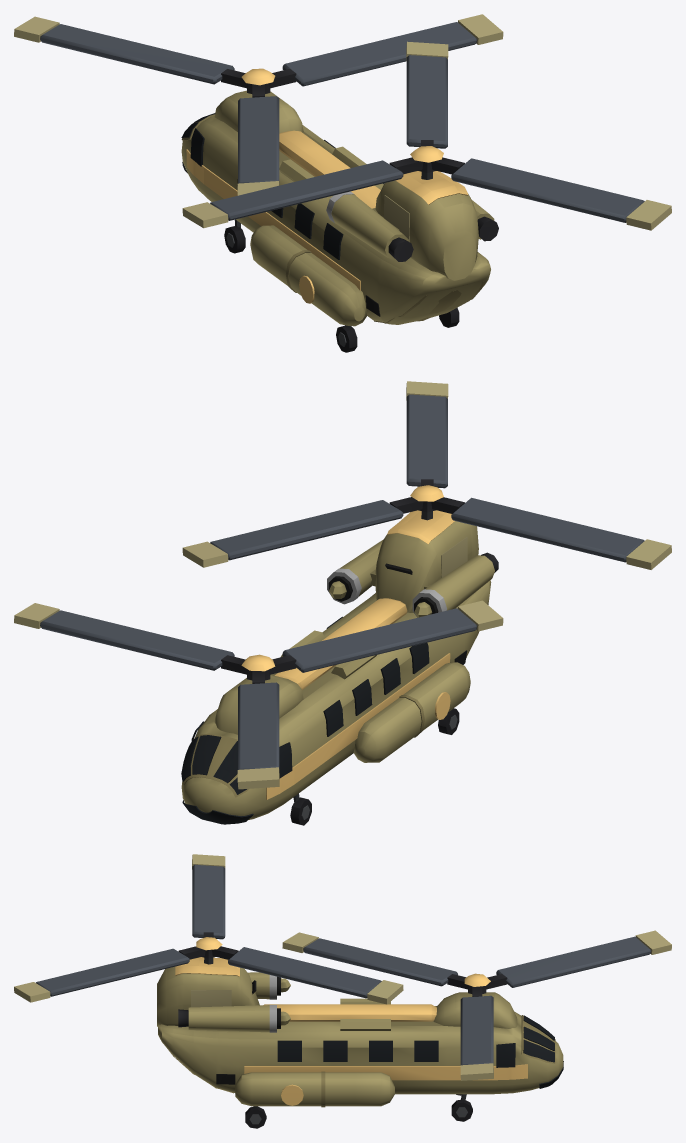
File: helicopter.glb
3 renders of one model, top to bottom at view 1: azimuth 30°, elevation 25°; view 2: azimuth 150°, elevation 25°; view 3: azimuth 270°, elevation 25°, orthographic. The views are drawn at different scales.
Parts seen in each view (by area): view 1: Body, Rotor2, Rotor; view 2: Body, Rotor2, Rotor; view 3: Body, Rotor2, Rotor.
Part boxes in pixels (x1=…): Body: x1=181, y1=90, x2=498, y2=352; Rotor2: x1=182, y1=41, x2=671, y2=230; Rotor: x1=14, y1=14, x2=503, y2=195; Body: x1=181, y1=510, x2=498, y2=825; Rotor2: x1=182, y1=381, x2=671, y2=569; Rotor: x1=14, y1=600, x2=503, y2=789; Body: x1=157, y1=957, x2=563, y2=1128; Rotor2: x1=14, y1=854, x2=403, y2=1004; Rotor: x1=282, y1=930, x2=671, y2=1080.
Bounding box in the file's own units: 1.53 × 0.6582 × 2.34.
